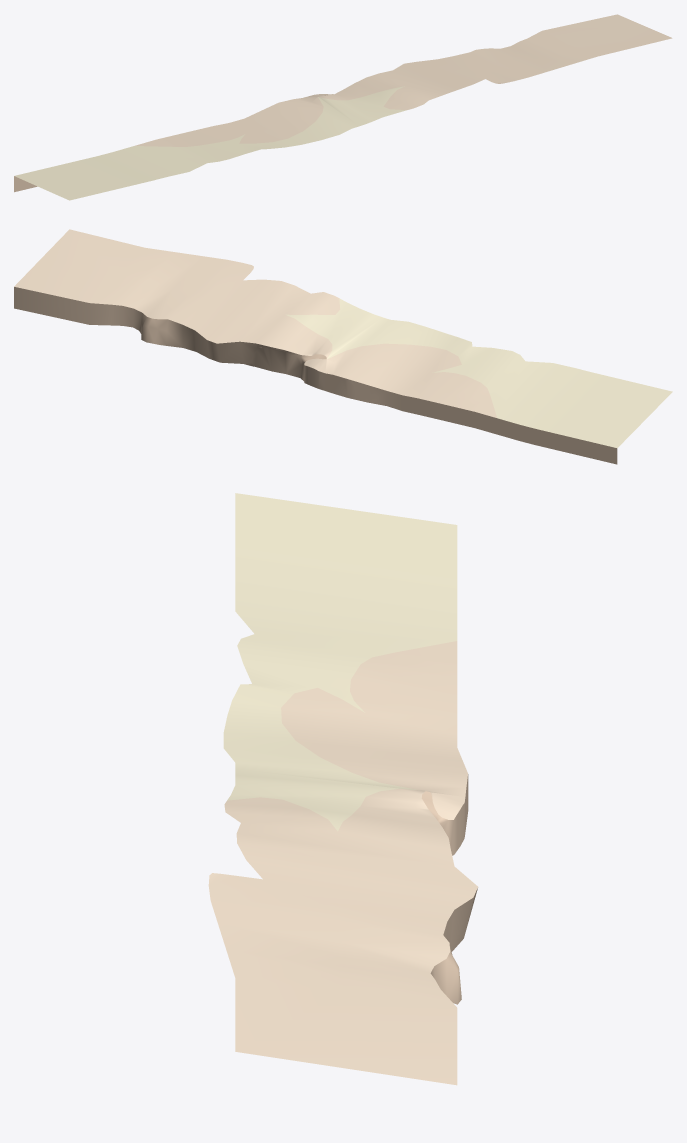
File: Mesh_Battle_Sand_Ground.fbx
3 views of the same model, one above another, from view 1: azimuth 30°, elevation 25°; view 2: azimuth 150°, elevation 25°; view 3: azimuth 270°, elevation 25° (orthographic). The views are drawn at different scales.
Parts seen in each view (by area): view 1: Mesh_Battle_Sand_Ground; view 2: Mesh_Battle_Sand_Ground; view 3: Mesh_Battle_Sand_Ground.
Boxes of the visible parts, x1=… form: Mesh_Battle_Sand_Ground: x1=14, y1=14, x2=672, y2=200; Mesh_Battle_Sand_Ground: x1=14, y1=229, x2=672, y2=464; Mesh_Battle_Sand_Ground: x1=208, y1=493, x2=477, y2=1085.
Size of the model in its own units: 4593 by 367 by 888.
